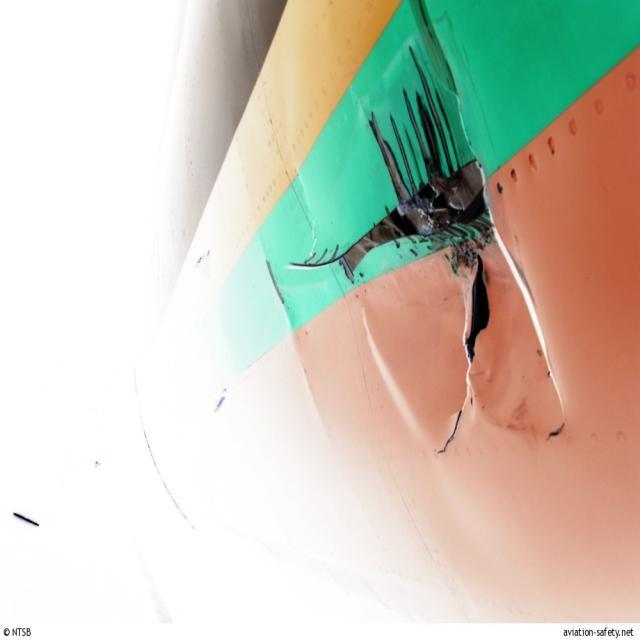crack: (432, 250, 495, 465)
